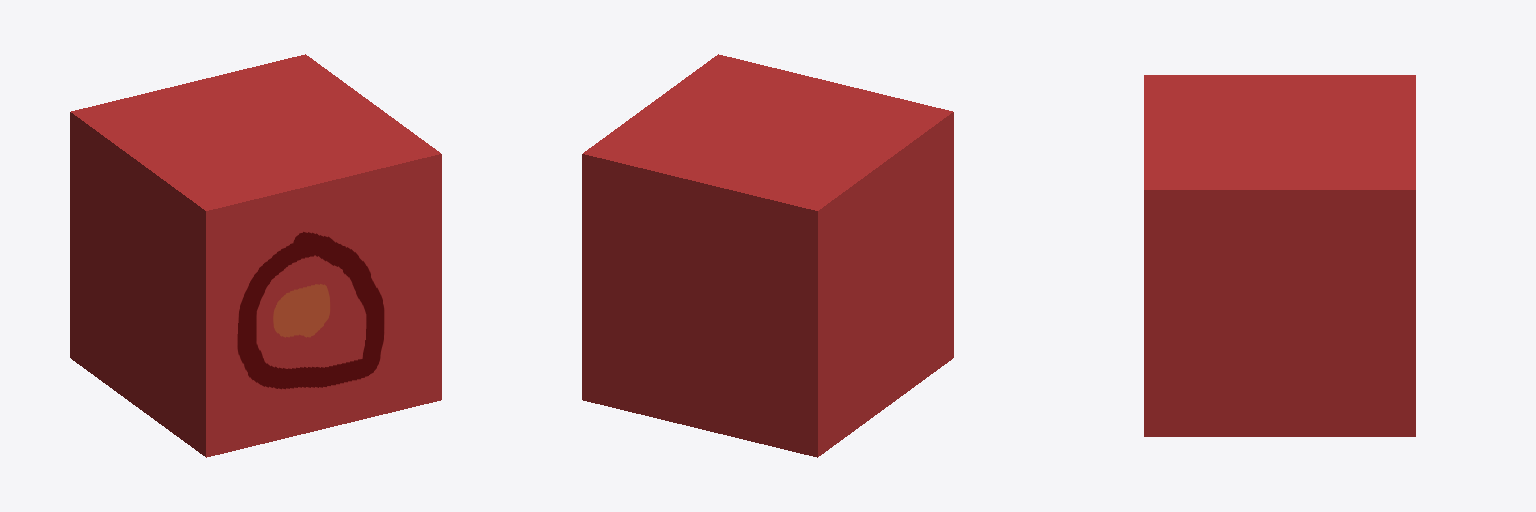
3 views of the same model, side by side, from view 1: azimuth 30°, elevation 25°; view 2: azimuth 150°, elevation 25°; view 3: azimuth 270°, elevation 25° (orthographic).
Parts seen in each view (by area): view 1: Cube; view 2: Cube; view 3: Cube.
Part boxes in pixels (left/top/right/bottom): Cube: left=70, top=54, right=441, bottom=457; Cube: left=582, top=54, right=953, bottom=457; Cube: left=1144, top=75, right=1415, bottom=436.
Bounding box in the file's own units: 0.8 × 0.8 × 0.8.
Materials: 1 (1 with a texture image).